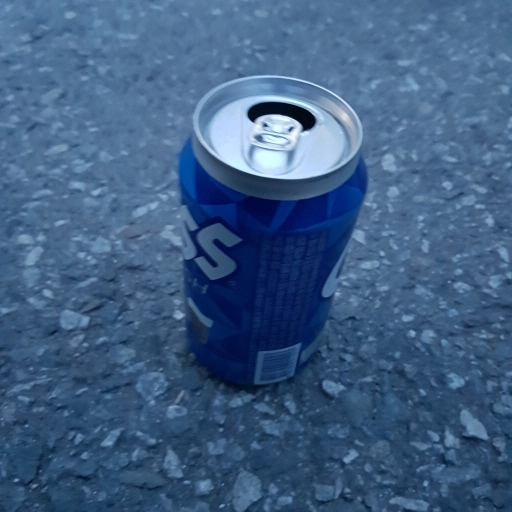Metal_0: (173, 75, 370, 395)
